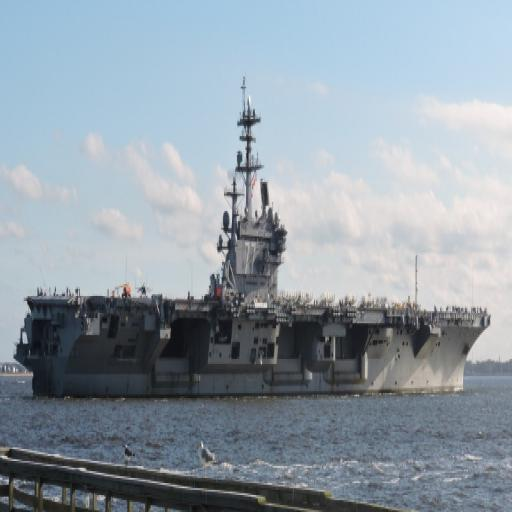Portanaves: (16, 59, 495, 407)
